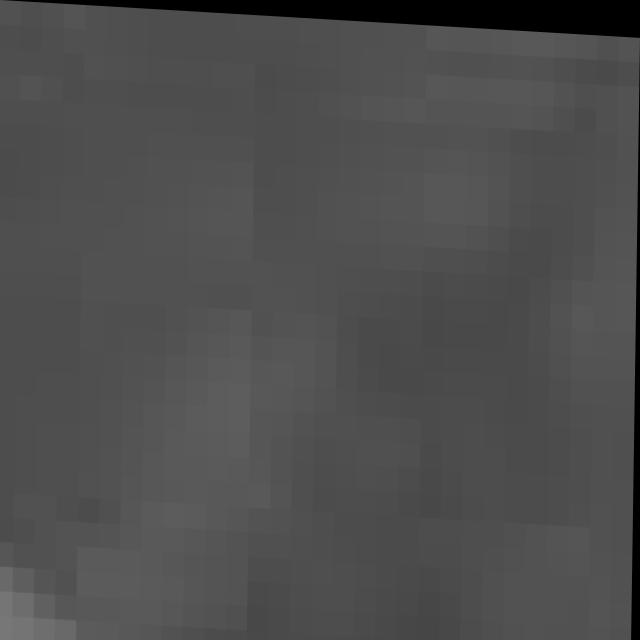fracture: (13, 5, 639, 640)
